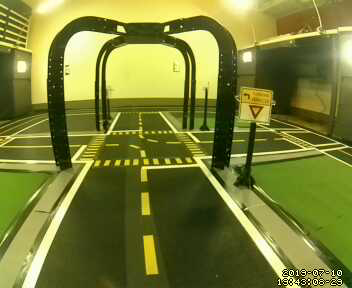Turn Yield: (240, 86, 272, 125)
